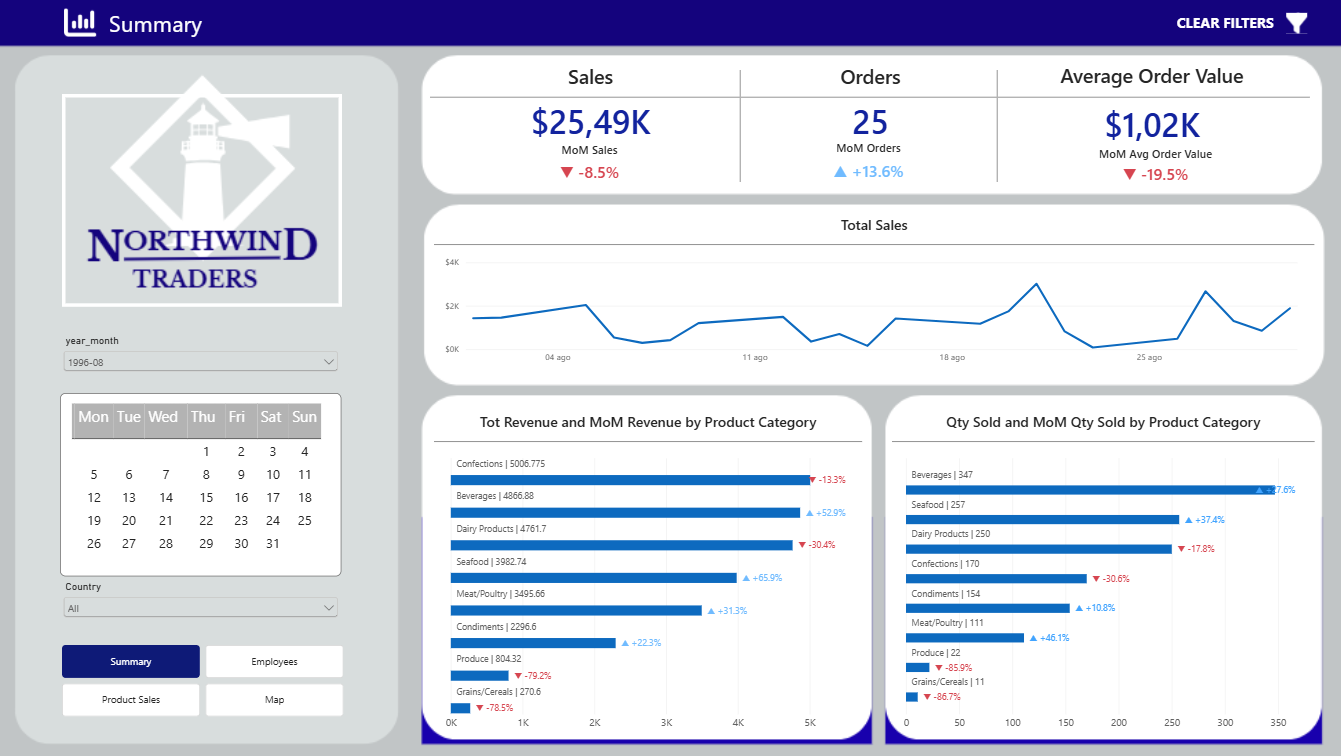

The dashboard page shown, as its layout file describes it:
{"tool":"powerbi","page":{"name":"Summary","canvas":[1920,1080],"ordinal":0},"visuals":[{"type":"image","box":[0,0,1920,1080],"z":0},{"type":"shape","box":[614.6,60.6,1257.4,158],"z":1000},{"type":"lineChart","title":"Total Sales","fields":{"Category":["calendar.Date.Variation.Date Hierarchy.Year","calendar.Date.Variation.Date Hierarchy.Quarter","calendar.Date.Variation.Date Hierarchy.Month","calendar.Date.Variation.Date Hierarchy.Day"],"Y":["Mesures.tot_revenue"]},"box":[619.8,293.3,1257.8,246.4],"z":2000},{"type":"clusteredBarChart","title":"Tot Revenue and MoM Revenue by Product Category","fields":{"Category":["Categories.CategoryName"],"Y":["Mesures.Placeholder","Mesures.tot_revenue"]},"box":[620,574,612,488],"z":3000},{"type":"card","title":"Sales","fields":{"Values":["Mesures.tot_revenue"]},"box":[658,76,370,142],"z":4000},{"type":"card","title":"Orders","fields":{"Values":["Mesures.tot_orders"]},"box":[1058,76,370,142],"z":5000},{"type":"card","title":"Average Order Value","fields":{"Values":["Mesures.avg_order_value"]},"box":[1458,74,374,152],"z":6000},{"type":"clusteredBarChart","title":"Qty Sold and MoM Qty Sold by Product Category","fields":{"Category":["Categories.CategoryName"],"Y":["Mesures.Placeholder","Mesures.tot_qty_sold"]},"box":[1274,574,604,488],"z":7000},{"type":"card","title":"MoM Sales","fields":{"Values":["Mesures.MoM_Sales_Label"]},"box":[657.5,188.6,370.1,97.4],"z":8000},{"type":"card","title":"MoM Orders","fields":{"Values":["Mesures.MoM_Orders_Label"]},"box":[1056.1,186.1,370.1,99.6],"z":9000},{"type":"card","title":"MoM Avg Order Value","fields":{"Values":["Mesures.MoM_avg_order_value_Label"]},"box":[1465.3,194.2,370.1,93.1],"z":10000},{"type":"slicer","fields":{"Values":["Customers.Country"]},"box":[86,830,402,80],"z":11000},{"type":"slicer","fields":{"Values":["calendar.year_month"]},"box":[86,478,402,84],"z":12000},{"type":"pivotTable","fields":{"Columns":["calendar.day_name"],"Rows":["calendar.week_number"],"Values":["Min(calendar.day_number)"]},"box":[86,562,401.7,261.7],"z":13000},{"type":"pageNavigator","box":[88,922,402,102],"z":14000},{"type":"shape","box":[907.1,99.8,300.9,160.3],"z":15000},{"type":"shape","box":[1274.5,99.8,300.9,160.3],"z":16000},{"type":"shape","box":[88,134,400,304],"z":17000},{"type":"actionButton","box":[1832,10,42,46],"z":18000},{"type":"actionButton","box":[1656,12,176,40],"z":19000},{"type":"image","box":[92,4,46,56],"z":20000},{"type":"textbox","box":[156,10,178,62],"z":21000}]}

Visuals, with their boxes in screenshot pixels (x1, y1, x2, y2), scaled from the page's 1920x1080 canvas onto the 1341x756 screenshot:
image: {"left": 0, "top": 0, "right": 1340, "bottom": 755}
shape: {"left": 429, "top": 42, "right": 1307, "bottom": 153}
"Total Sales" lineChart: {"left": 433, "top": 205, "right": 1311, "bottom": 378}
"Tot Revenue and MoM Revenue by Product Category" clusteredBarChart: {"left": 433, "top": 402, "right": 860, "bottom": 743}
"Sales" card: {"left": 460, "top": 53, "right": 718, "bottom": 153}
"Orders" card: {"left": 739, "top": 53, "right": 997, "bottom": 153}
"Average Order Value" card: {"left": 1018, "top": 52, "right": 1280, "bottom": 158}
"Qty Sold and MoM Qty Sold by Product Category" clusteredBarChart: {"left": 890, "top": 402, "right": 1312, "bottom": 743}
"MoM Sales" card: {"left": 459, "top": 132, "right": 718, "bottom": 200}
"MoM Orders" card: {"left": 738, "top": 130, "right": 996, "bottom": 200}
"MoM Avg Order Value" card: {"left": 1023, "top": 136, "right": 1282, "bottom": 201}
slicer - Customers.Country: {"left": 60, "top": 581, "right": 341, "bottom": 637}
slicer - calendar.year_month: {"left": 60, "top": 335, "right": 341, "bottom": 393}
pivotTable - calendar.day_name x calendar.week_number: {"left": 60, "top": 393, "right": 341, "bottom": 577}
pageNavigator: {"left": 61, "top": 645, "right": 342, "bottom": 717}
shape: {"left": 634, "top": 70, "right": 844, "bottom": 182}
shape: {"left": 890, "top": 70, "right": 1100, "bottom": 182}
shape: {"left": 61, "top": 94, "right": 341, "bottom": 307}
actionButton: {"left": 1280, "top": 7, "right": 1309, "bottom": 39}
actionButton: {"left": 1157, "top": 8, "right": 1280, "bottom": 36}
image: {"left": 64, "top": 3, "right": 96, "bottom": 42}
textbox: {"left": 109, "top": 7, "right": 233, "bottom": 50}
